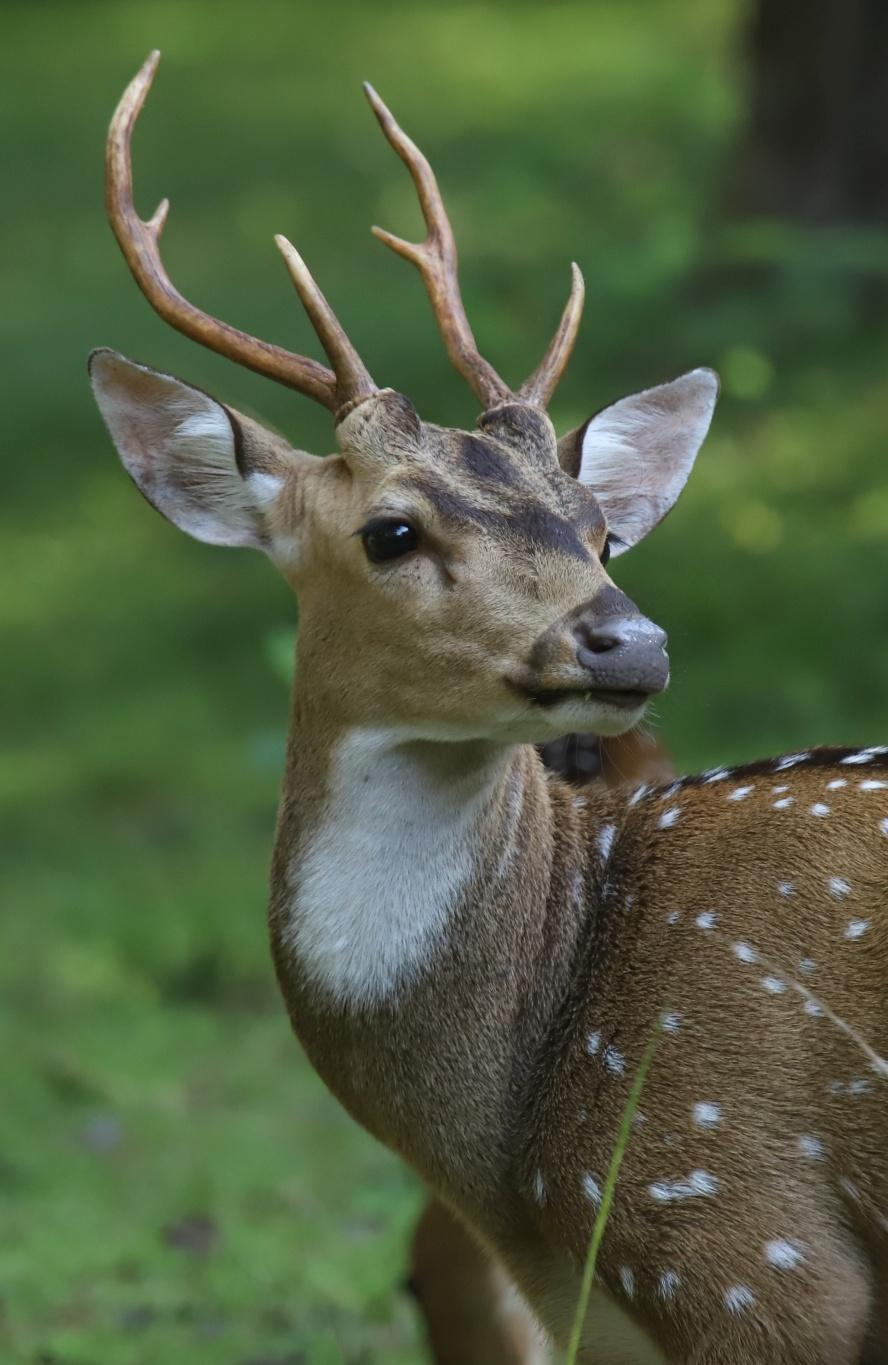Deer: (88, 52, 887, 1364)
